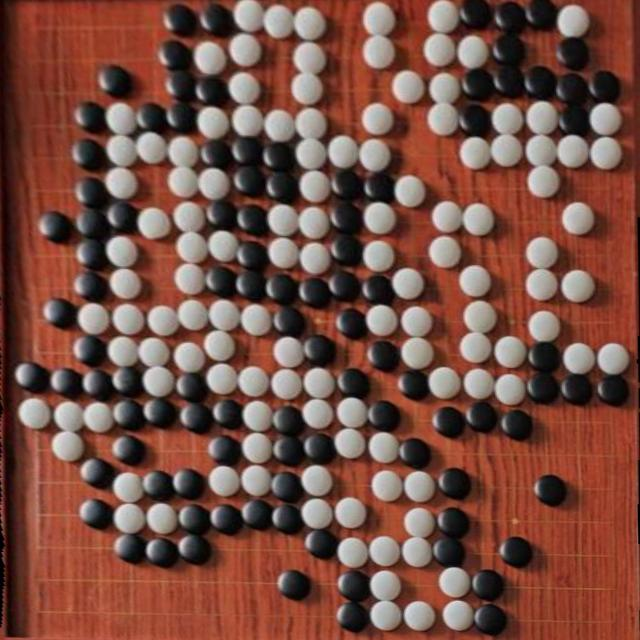blackstone: (198, 2, 234, 36), (556, 36, 590, 72), (523, 65, 557, 99), (458, 103, 492, 137), (558, 103, 592, 137), (72, 138, 106, 172), (436, 506, 472, 538), (336, 570, 372, 602), (14, 361, 50, 393), (472, 604, 508, 636), (465, 401, 499, 434), (588, 70, 621, 104), (525, 372, 560, 404), (111, 434, 146, 466), (437, 468, 472, 500), (491, 34, 526, 66), (163, 4, 198, 36), (276, 569, 311, 601), (97, 65, 133, 96), (330, 200, 363, 233), (461, 68, 494, 101), (534, 474, 567, 507), (266, 273, 300, 305), (233, 166, 267, 198), (265, 172, 299, 204), (273, 435, 307, 467), (270, 472, 304, 504), (398, 437, 432, 469), (76, 239, 110, 271), (112, 399, 146, 431), (80, 457, 114, 489), (164, 70, 198, 102), (559, 374, 593, 406), (78, 498, 112, 530), (44, 297, 78, 329), (471, 570, 505, 602), (596, 375, 630, 407), (38, 210, 72, 242), (499, 536, 533, 568), (74, 177, 109, 208), (328, 270, 361, 302), (172, 468, 205, 500), (432, 406, 465, 438), (500, 409, 533, 441), (556, 72, 589, 104), (74, 101, 107, 133), (114, 533, 147, 565), (273, 305, 307, 336), (367, 401, 401, 432), (232, 136, 266, 167), (73, 335, 107, 366), (178, 504, 212, 535), (527, 341, 561, 372), (178, 534, 212, 565), (494, 1, 528, 32), (336, 601, 370, 632), (143, 398, 178, 428), (195, 77, 230, 107), (75, 209, 110, 239), (431, 537, 466, 567), (159, 39, 194, 69), (458, 0, 493, 30), (205, 265, 237, 297), (242, 499, 274, 531), (303, 334, 336, 365), (331, 170, 364, 201), (106, 201, 139, 232), (363, 173, 396, 204), (304, 529, 337, 560), (207, 435, 241, 465), (73, 272, 107, 302), (210, 504, 244, 534), (145, 537, 179, 567), (524, 0, 558, 30), (330, 235, 362, 266), (368, 340, 400, 371), (212, 398, 244, 429), (336, 308, 368, 339), (492, 66, 524, 97), (236, 241, 269, 271), (206, 200, 239, 230), (180, 403, 213, 433), (303, 433, 336, 463), (176, 372, 209, 402), (142, 470, 175, 500), (398, 370, 431, 400), (136, 102, 169, 132), (50, 368, 83, 398), (82, 369, 113, 400), (167, 101, 198, 132), (236, 205, 268, 235), (362, 274, 394, 304), (338, 368, 370, 398), (264, 142, 296, 172), (200, 139, 232, 169), (272, 504, 304, 534), (112, 366, 144, 396), (272, 406, 305, 435), (236, 270, 267, 300), (299, 278, 329, 307)
whitestone: (560, 269, 596, 304), (589, 136, 623, 172), (596, 342, 630, 377), (525, 134, 559, 168), (105, 166, 139, 200), (562, 342, 596, 376), (525, 268, 559, 302), (556, 134, 590, 168), (361, 102, 395, 136), (525, 100, 559, 134), (229, 33, 263, 67), (18, 397, 52, 431), (562, 201, 596, 235), (392, 267, 426, 300), (298, 170, 332, 203), (459, 331, 493, 364), (494, 335, 528, 368), (142, 365, 176, 398), (137, 207, 171, 240), (426, 102, 459, 136), (106, 135, 140, 168), (459, 136, 492, 170), (228, 72, 262, 105), (457, 35, 490, 69), (292, 72, 326, 105), (424, 33, 457, 67), (194, 41, 227, 75), (293, 41, 327, 74), (363, 34, 396, 68), (589, 102, 622, 136), (293, 7, 327, 40), (362, 2, 396, 35), (557, 4, 591, 37), (428, 366, 461, 399), (363, 239, 396, 272), (176, 231, 209, 264), (112, 303, 145, 336), (295, 138, 328, 171), (173, 200, 206, 233), (198, 167, 231, 200), (371, 469, 404, 502), (491, 134, 524, 167), (78, 302, 111, 335), (428, 72, 461, 105), (462, 202, 495, 235), (197, 106, 230, 139), (267, 204, 301, 236), (463, 300, 497, 332), (208, 465, 242, 497), (232, 104, 266, 136), (459, 264, 493, 296), (492, 102, 524, 136), (392, 70, 424, 104), (105, 102, 137, 136), (263, 4, 295, 38), (442, 600, 476, 632), (365, 304, 398, 336), (401, 337, 434, 369), (178, 298, 210, 331), (206, 364, 239, 396), (209, 299, 241, 332), (273, 336, 306, 368), (208, 229, 240, 262), (174, 341, 207, 373), (147, 305, 180, 337), (174, 263, 207, 295), (364, 201, 396, 234), (301, 465, 334, 497), (359, 138, 391, 171), (109, 268, 142, 300), (429, 235, 461, 268), (105, 236, 138, 268), (301, 497, 334, 529), (136, 132, 169, 164), (528, 310, 561, 342), (295, 108, 328, 140), (264, 109, 297, 141), (394, 175, 426, 208), (431, 200, 463, 233), (146, 502, 179, 534), (113, 502, 146, 534), (439, 566, 472, 598), (527, 166, 560, 198), (526, 236, 558, 269), (234, 0, 266, 33), (427, 0, 460, 32), (403, 600, 436, 632), (299, 242, 331, 274), (298, 206, 330, 238), (268, 237, 300, 269), (303, 368, 335, 400), (336, 397, 368, 429), (204, 330, 236, 362), (271, 368, 303, 400), (238, 366, 270, 398), (368, 432, 400, 464), (463, 368, 495, 400), (242, 400, 274, 432), (108, 335, 140, 367), (242, 431, 274, 463), (404, 470, 436, 502), (494, 373, 526, 405), (328, 136, 360, 168), (240, 465, 272, 497), (401, 536, 433, 568), (112, 472, 144, 504), (138, 337, 171, 368), (369, 536, 402, 567), (370, 600, 403, 631), (401, 306, 433, 337), (302, 398, 334, 429), (335, 497, 367, 528), (168, 136, 199, 168), (337, 537, 369, 568), (370, 570, 402, 601), (51, 432, 84, 462), (241, 304, 272, 335), (83, 402, 114, 433), (53, 401, 84, 432), (334, 428, 366, 458), (404, 508, 436, 538), (168, 167, 198, 197)
